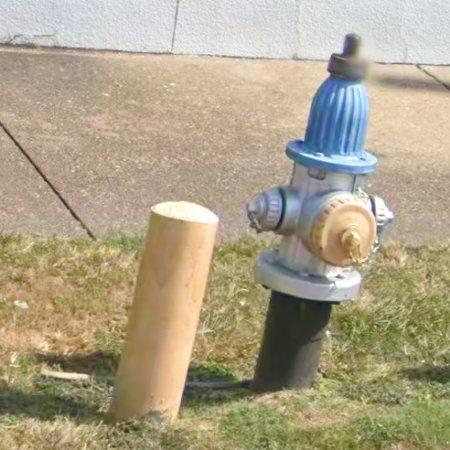a fire hydrant: (248, 33, 395, 391)
